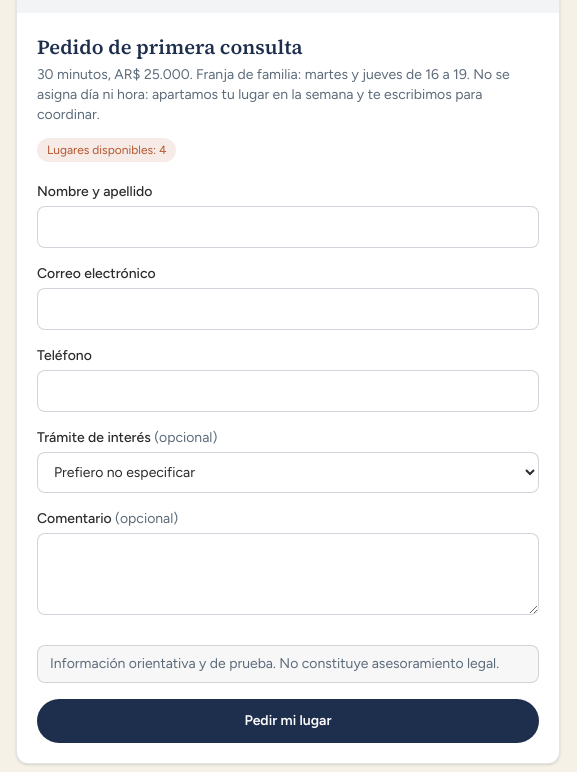
Test: Pantalla de pedido › no envía con campos inválidos y muestra un mensaje por cada uno
This screenshot has width=577, height=772.
(page scrolled)
Click the button "Pedir mi lugar": x=288, y=721 left=37, top=699, right=539, bottom=743
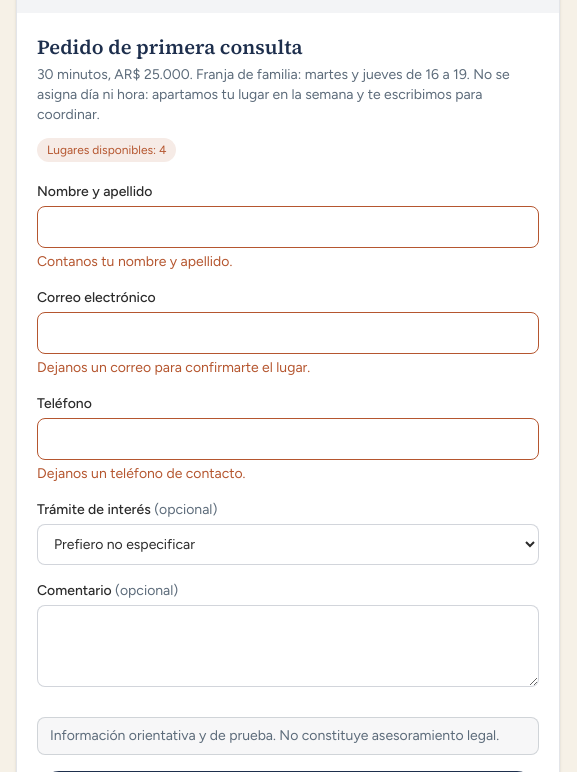
Expected: the text "Contanos tu nombre y apellido." is shown, left=37, top=253, right=232, bottom=270
Expected: the text "Dejanos un correo para confirmarte el lugar." is shown, left=37, top=359, right=310, bottom=376
Expected: the text "Dejanos un teléfono de contacto." is shown, left=37, top=465, right=246, bottom=482
